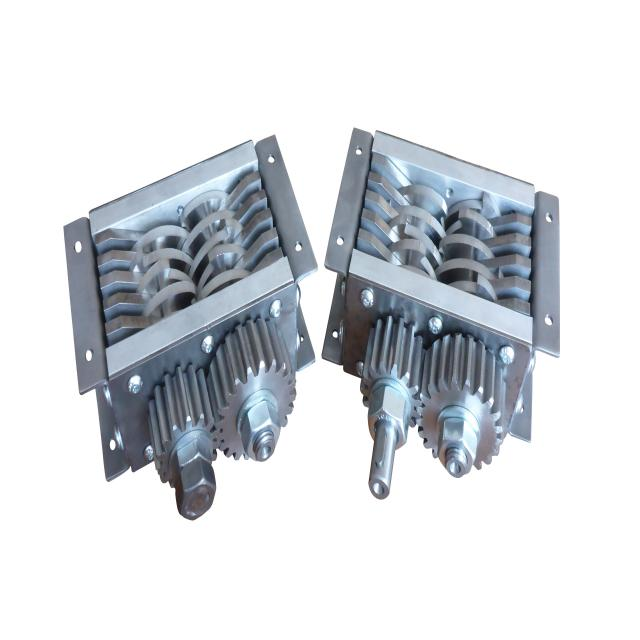Broyeur: (92, 121, 289, 370), (335, 121, 544, 333)
